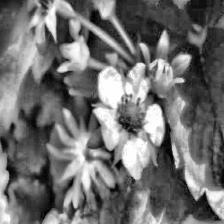Blossom Blight: (111, 91, 150, 141)
